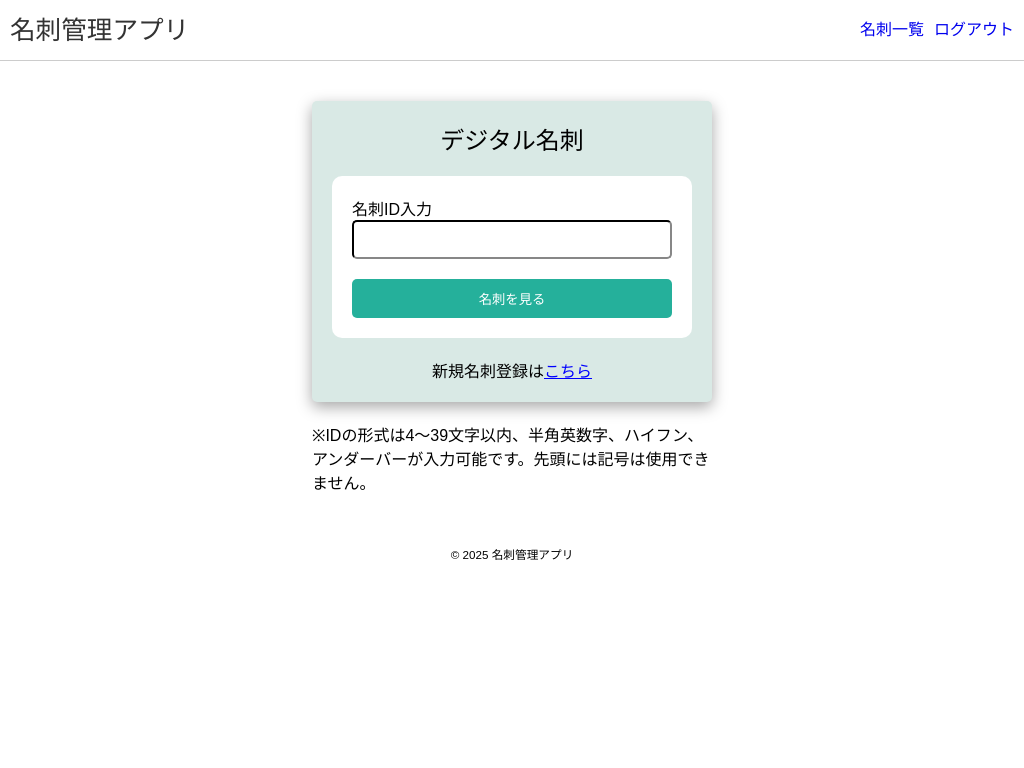
Test: Appコンポーネントの動作確認 › 名刺カードのテスト › 名前が表示されている
Type "sample2" into the field with test id "input-card-id" at (512, 240), box x1=352 y1=220 x2=672 y2=259
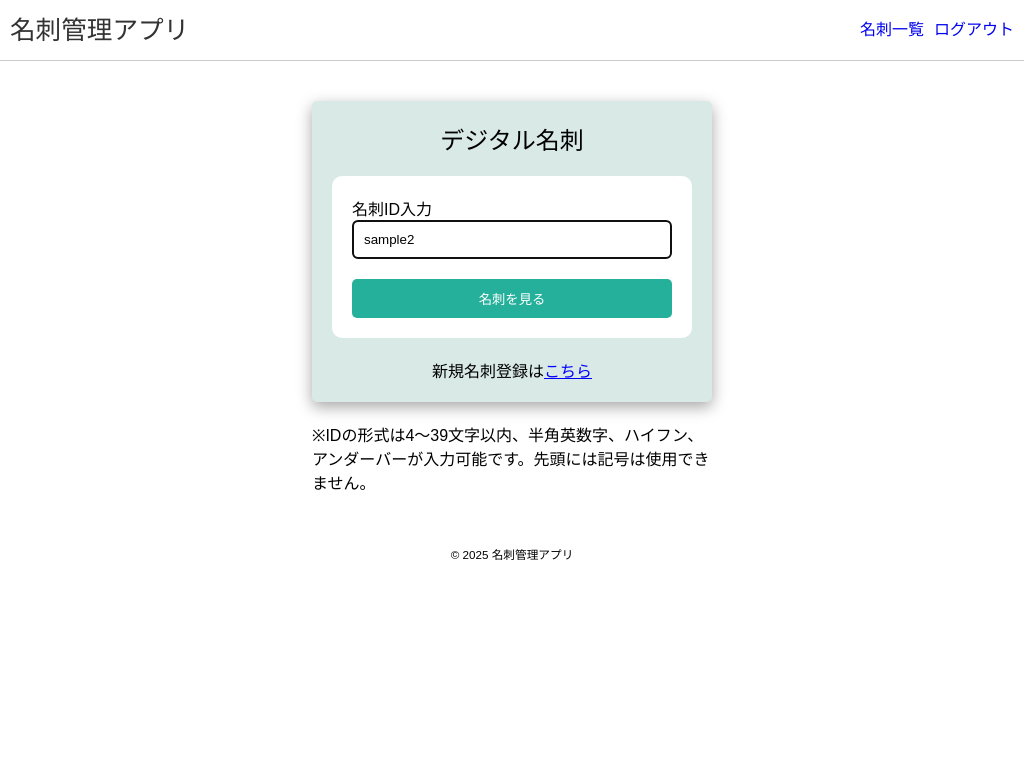
Click the button with test id "view-button" at (512, 298), box x1=352 y1=279 x2=672 y2=318
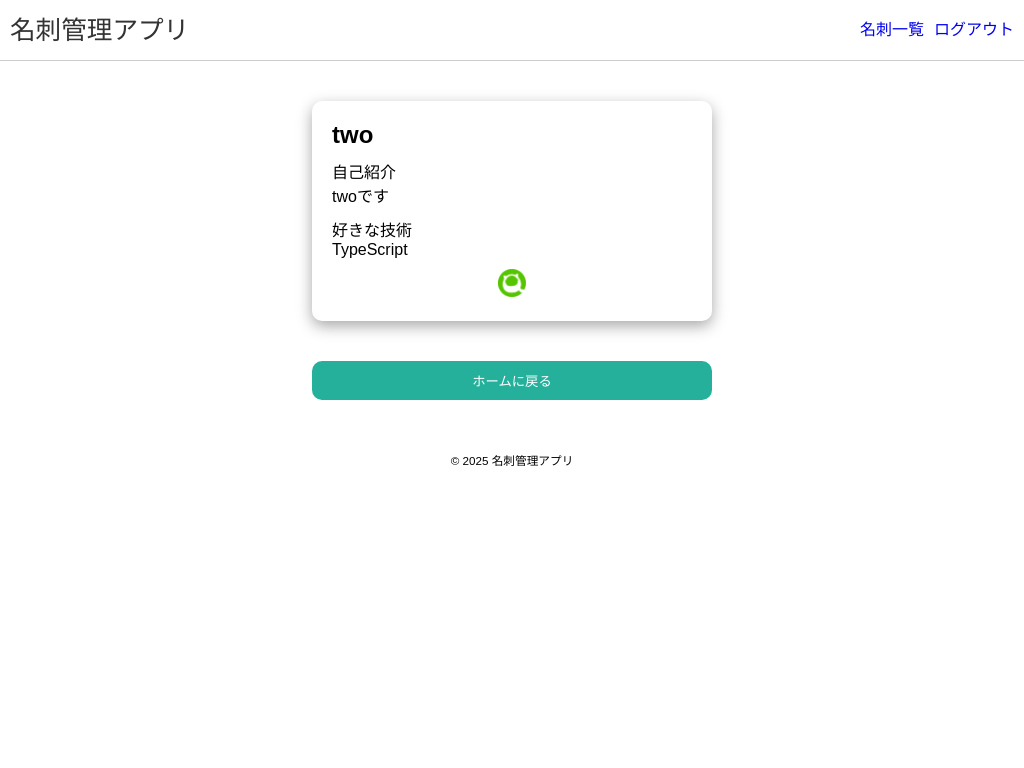
Check: the heading "two" is shown, box x1=332 y1=121 x2=373 y2=148
